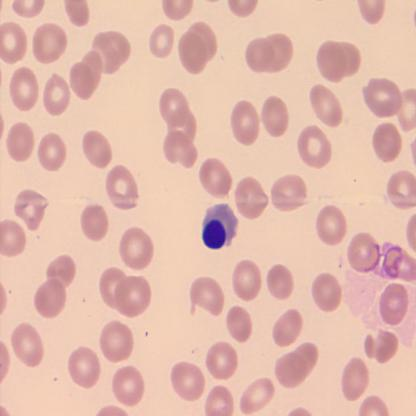NRC: (201, 200, 238, 250)
